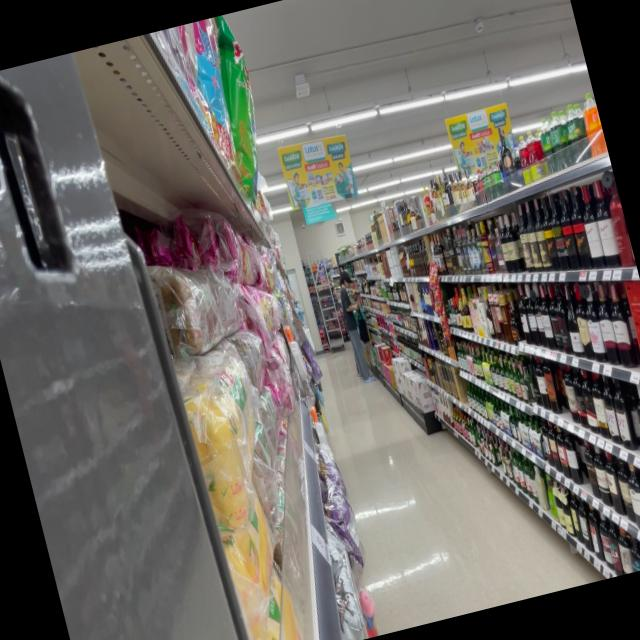shoplifting: (333, 265, 377, 381)
